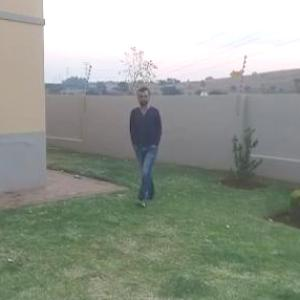follow: (122, 85, 162, 202)
